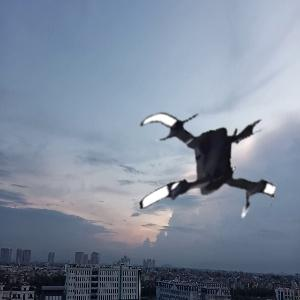drone: (128, 82, 297, 251)
